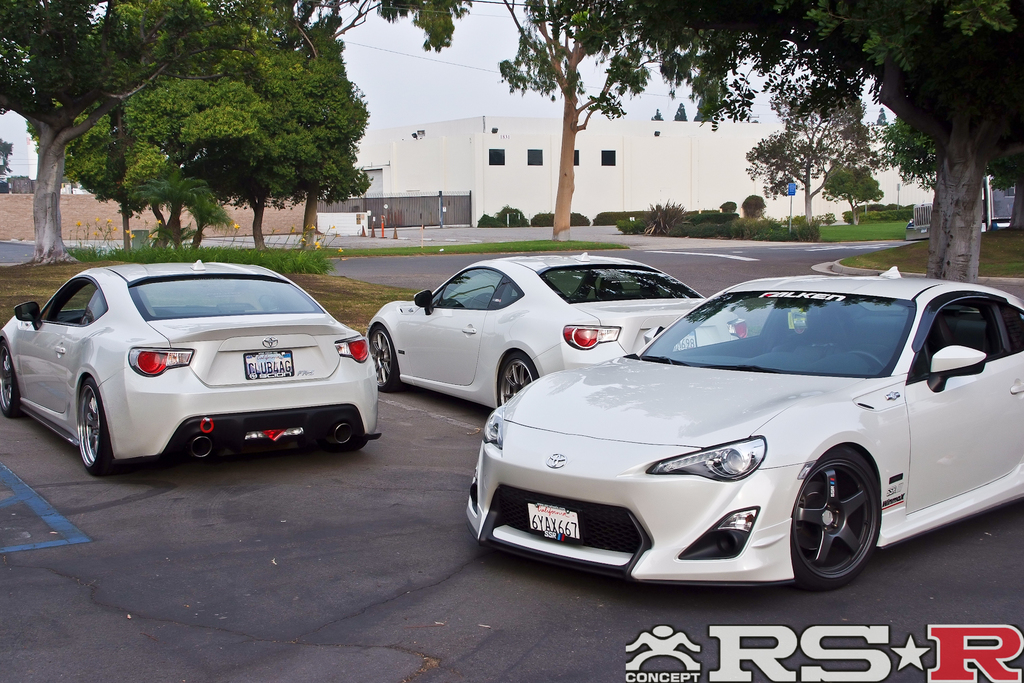Car: (465, 259, 1023, 590), (0, 251, 382, 470), (367, 256, 746, 390)
